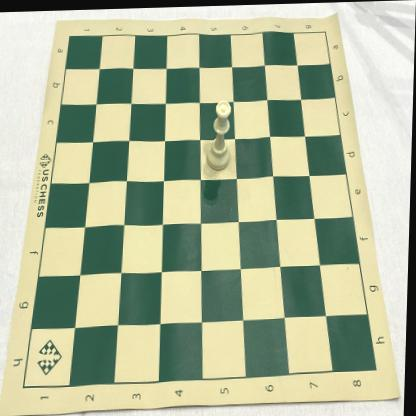white-queen: (207, 98, 233, 171)
